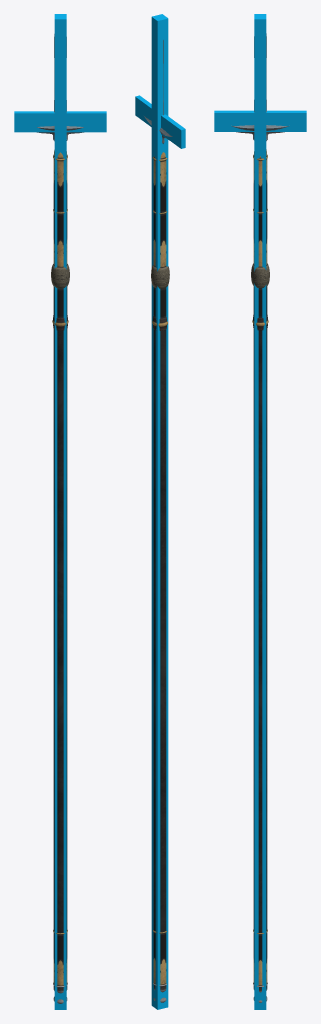
The model's file is JWC_Weapon_Yari_A_04.fbx.
The picture shows the model from 3 angles, left to right: view 1: azimuth 90°, elevation 25°; view 2: azimuth 210°, elevation 25°; view 3: azimuth 270°, elevation 25°; orthographic projection.
Parts seen in each view (by area): view 1: JWC_Weapon_Yari_A_04, C_JWC_Weapon_Yari_A_04_001, C_JWC_Weapon_Yari_A_04; view 2: C_JWC_Weapon_Yari_A_04_001, JWC_Weapon_Yari_A_04, C_JWC_Weapon_Yari_A_04; view 3: C_JWC_Weapon_Yari_A_04_001, JWC_Weapon_Yari_A_04, C_JWC_Weapon_Yari_A_04.
Part boxes in pixels (left/top/right/bottom): JWC_Weapon_Yari_A_04: left=37, top=34, right=83, bottom=1003; C_JWC_Weapon_Yari_A_04_001: left=54, top=14, right=66, bottom=1009; C_JWC_Weapon_Yari_A_04: left=14, top=111, right=106, bottom=132; C_JWC_Weapon_Yari_A_04_001: left=151, top=14, right=168, bottom=1009; JWC_Weapon_Yari_A_04: left=144, top=40, right=172, bottom=1002; C_JWC_Weapon_Yari_A_04: left=135, top=95, right=185, bottom=148; C_JWC_Weapon_Yari_A_04_001: left=254, top=14, right=266, bottom=1009; JWC_Weapon_Yari_A_04: left=231, top=33, right=289, bottom=1002; C_JWC_Weapon_Yari_A_04: left=214, top=110, right=306, bottom=131.
Size of the model in its own units: 0.057 by 3.28 by 0.2772.
